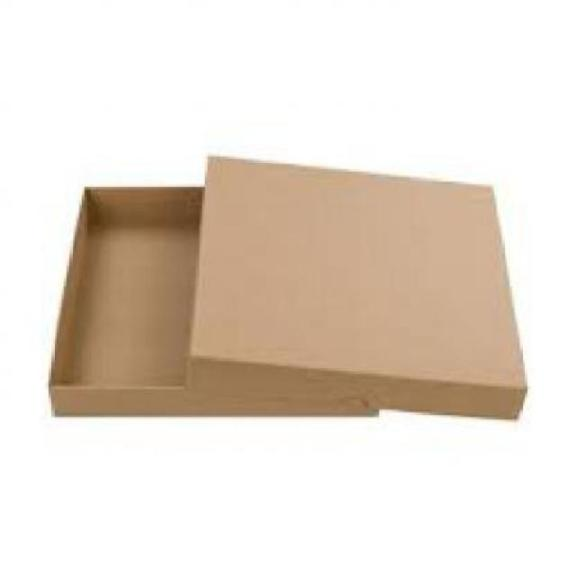Kertas: (182, 151, 522, 418), (190, 158, 526, 417)
